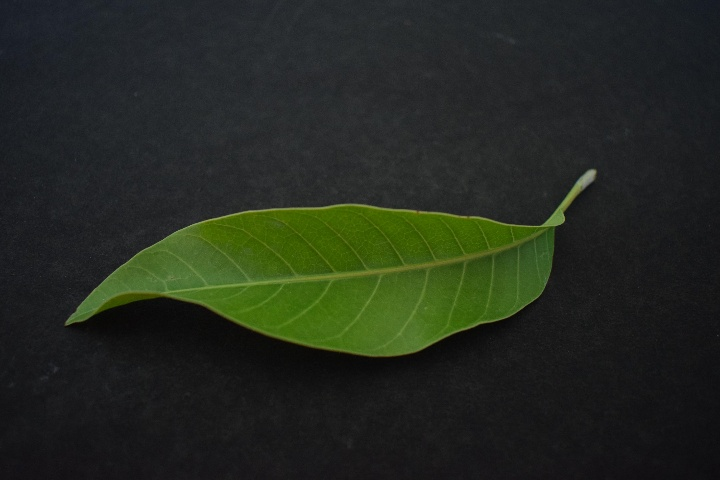healthy: (80, 206, 593, 361)
